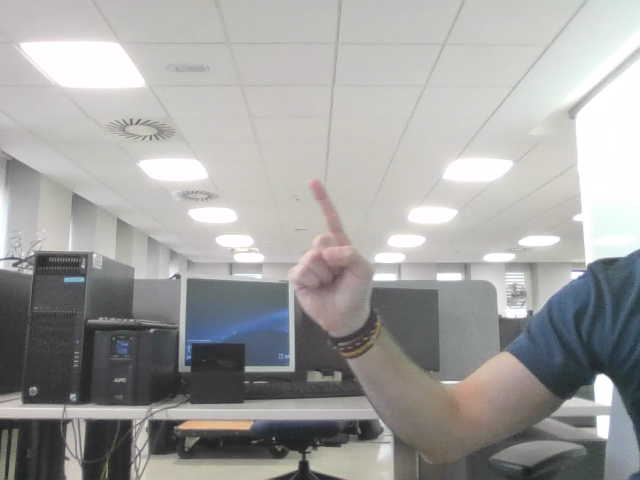1Dedo: (302, 190, 361, 291)
